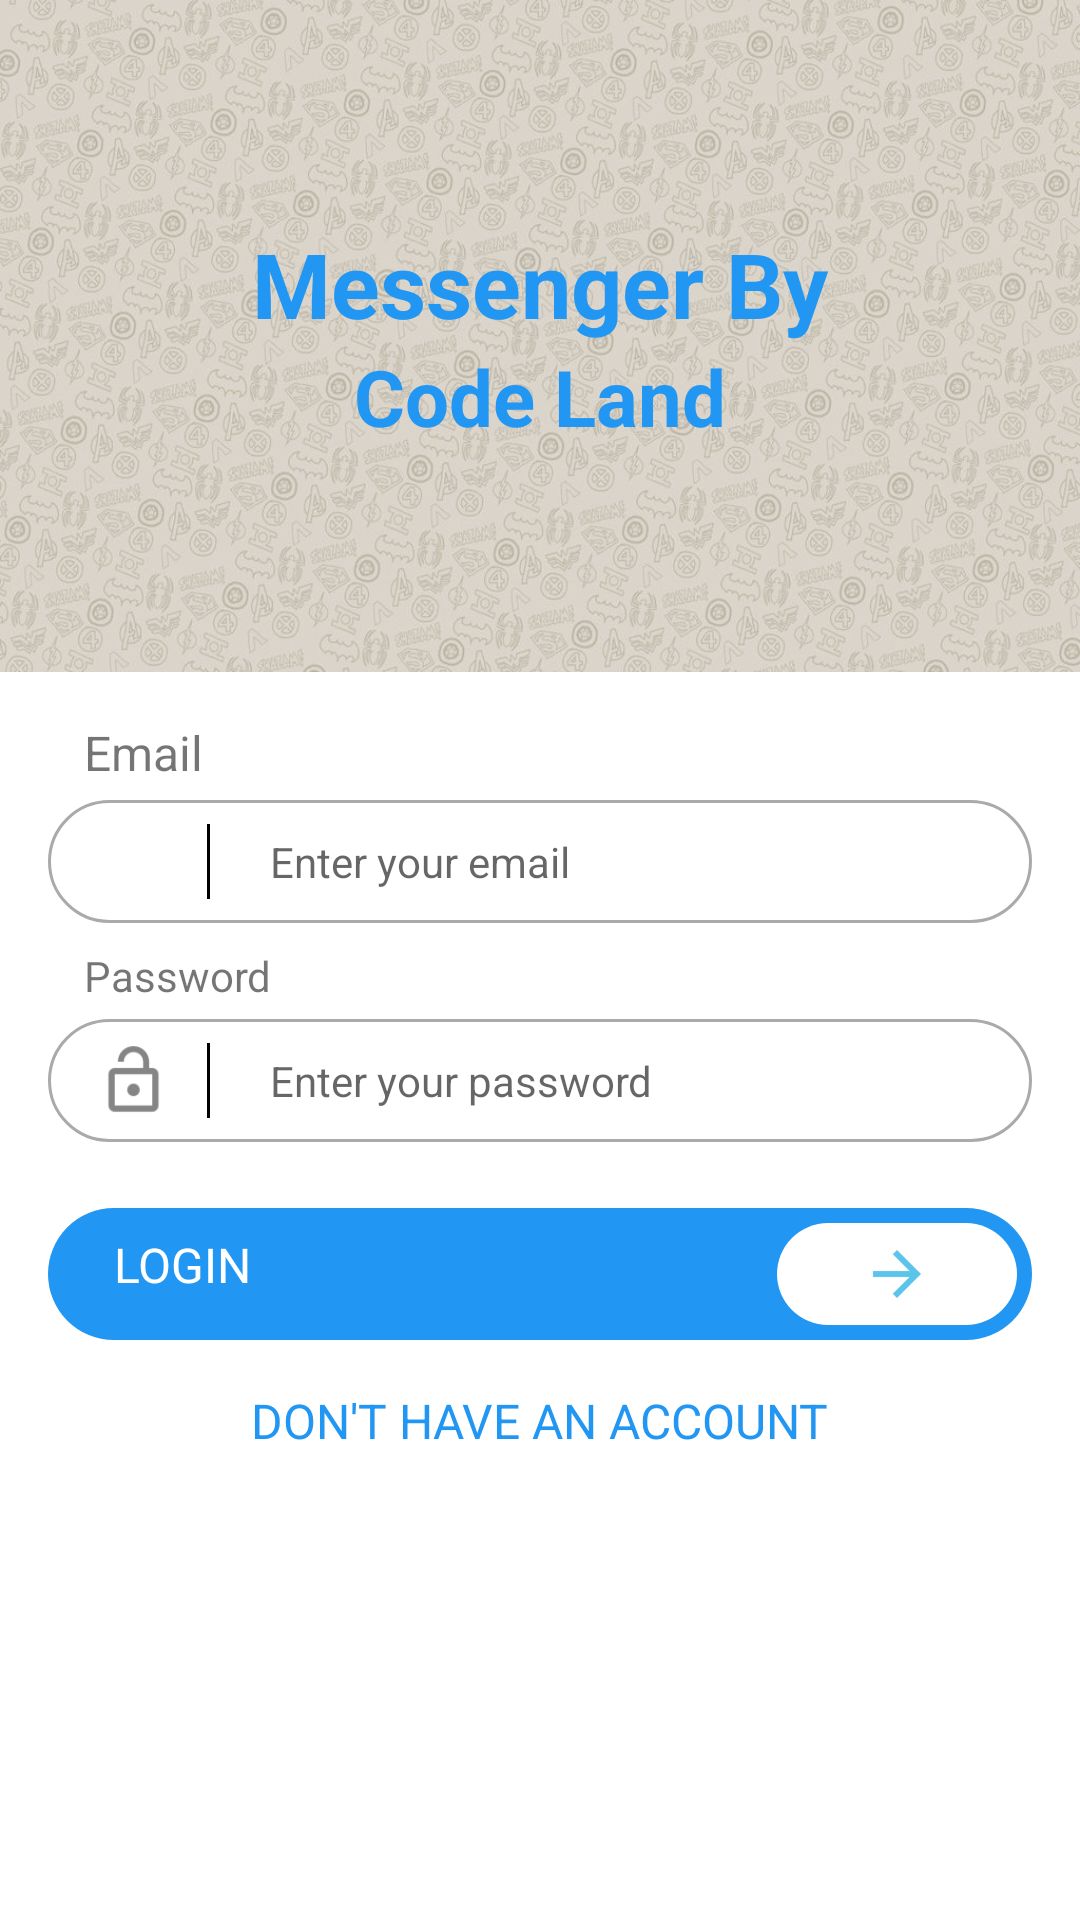

Screen size 1080*1920. Icon name, then its center in pixels as point (x, y):
login: point (897, 1274)
